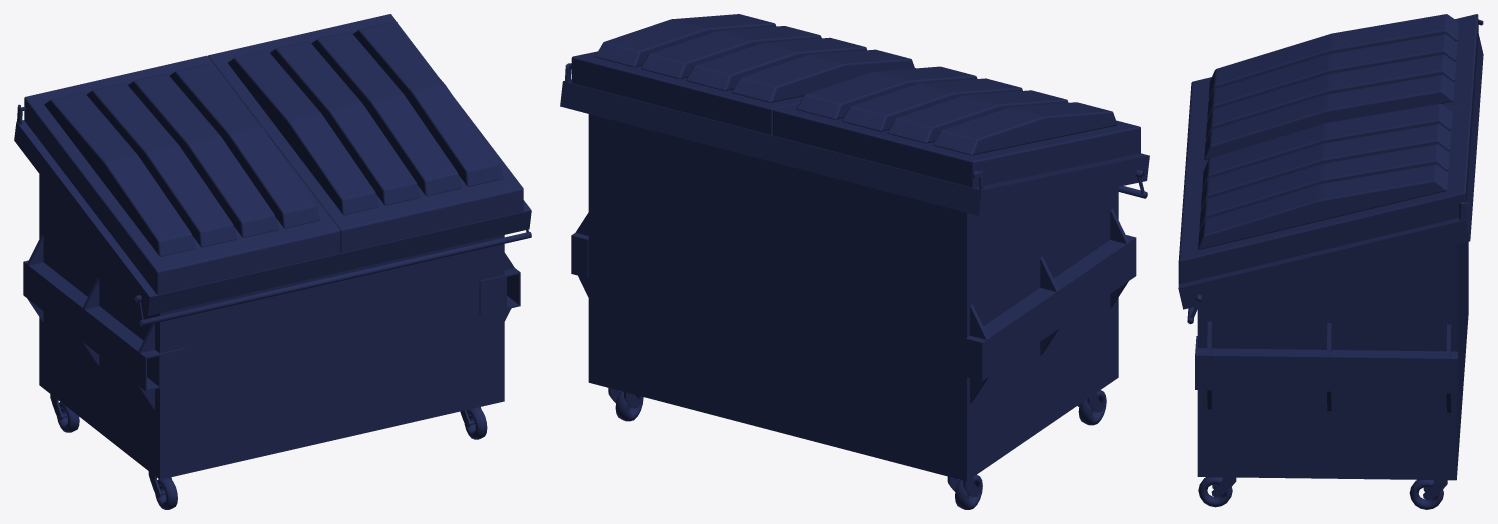
Rendered from Dumpster.fbx.
The picture shows the model from 3 angles, left to right: view 1: azimuth 30°, elevation 25°; view 2: azimuth 150°, elevation 25°; view 3: azimuth 270°, elevation 25°; orthographic projection. The views are drawn at different scales.
Visible parts, largest first — view 1: Cube.017; view 2: Cube.017; view 3: Cube.017.
Boxes of the visible parts, left/top/right/bottom form: Cube.017: left=14, top=14, right=531, bottom=509; Cube.017: left=560, top=14, right=1149, bottom=509; Cube.017: left=1178, top=14, right=1483, bottom=509.
Size of the model in its own units: 489 by 401 by 329.
